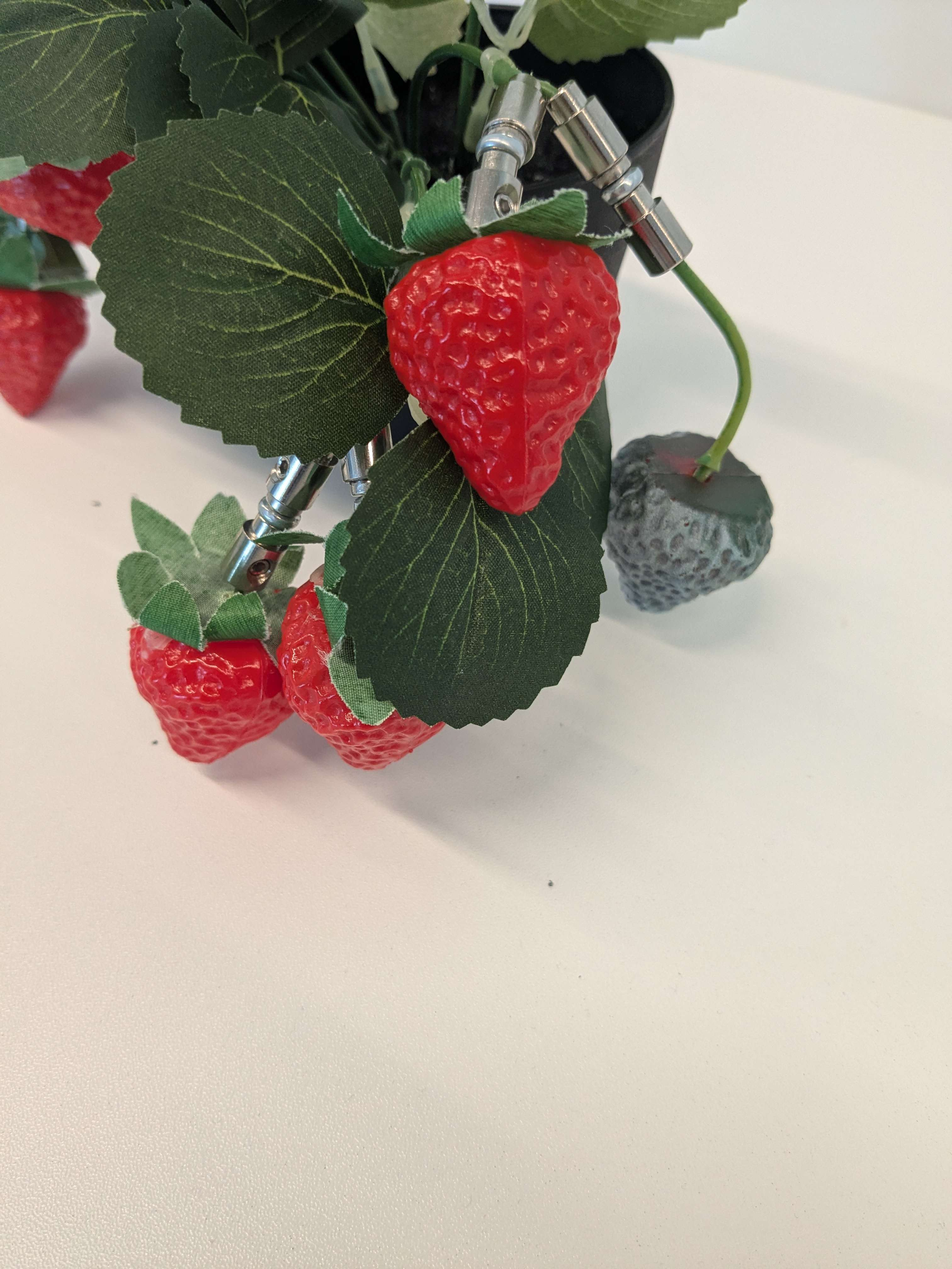Strawberry: (367, 204, 628, 519), (106, 536, 300, 804), (278, 571, 469, 797), (0, 258, 94, 435), (2, 154, 146, 233)
